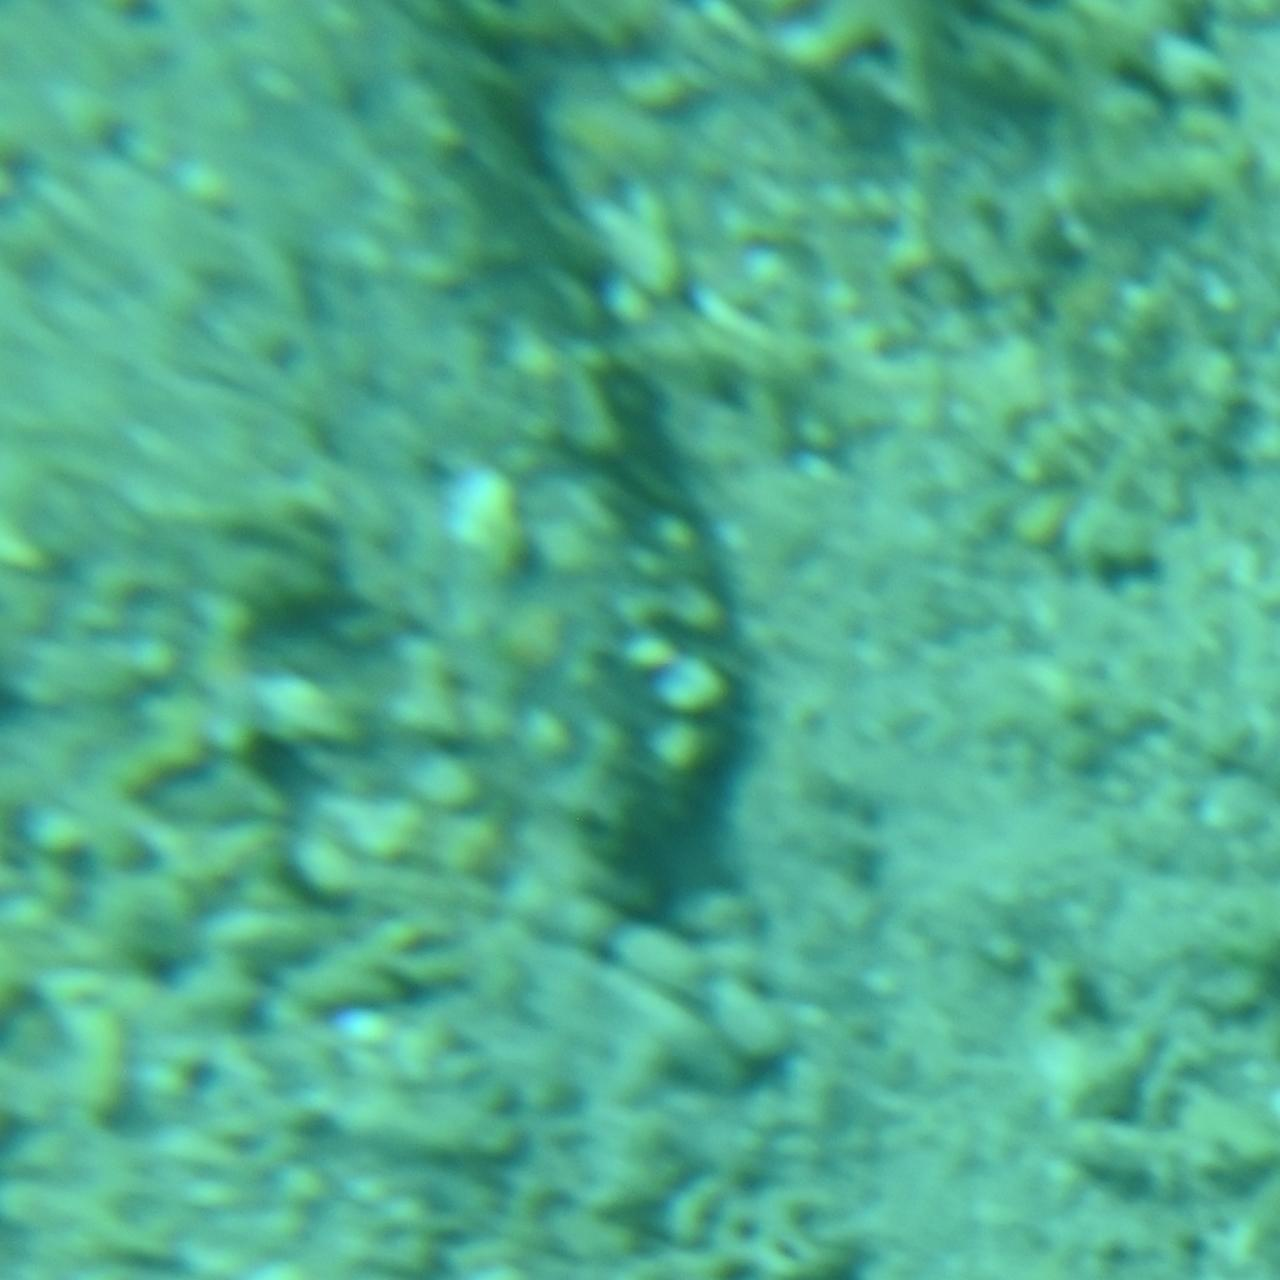Holothuria tubulosa: (186, 1, 796, 940)
